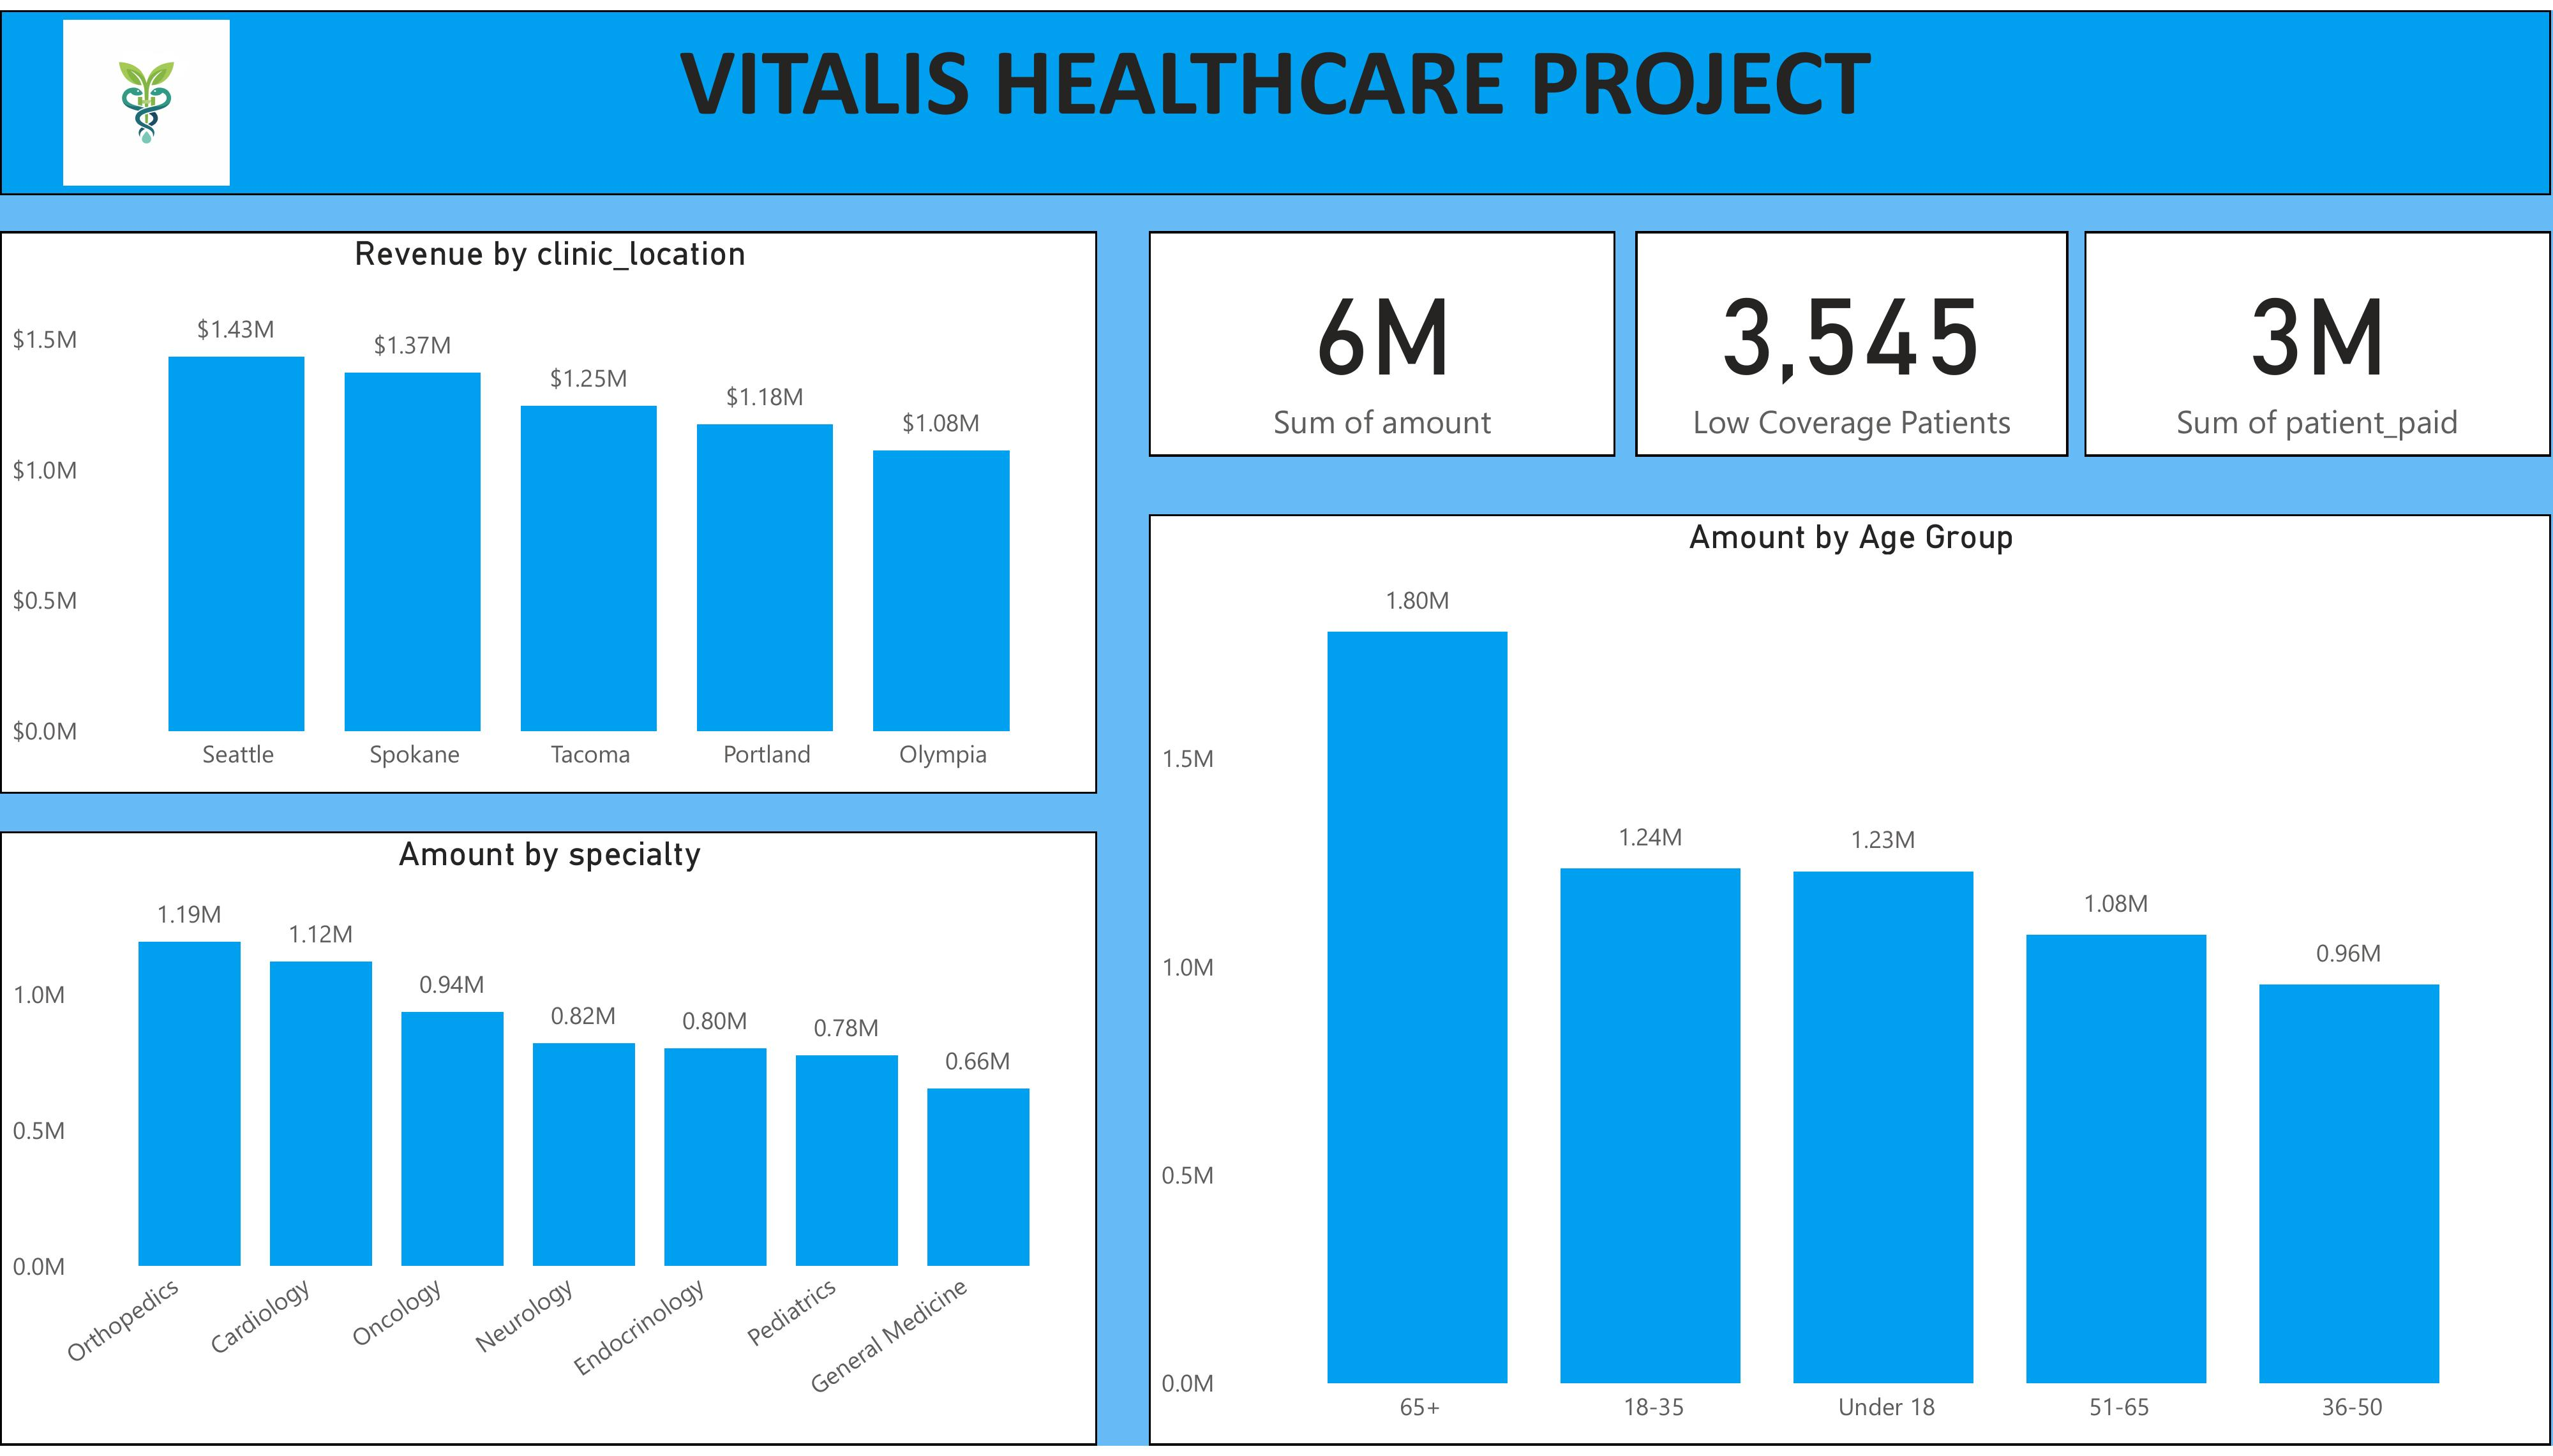

What the dashboard file says about the page in this screenshot:
{"tool":"powerbi","page":{"name":"Financial Summary","canvas":[1280,720],"ordinal":5},"visuals":[{"type":"card","fields":{"Values":["Sum(healthcare billing.patient_paid)"]},"box":[1045,111.5,234.3,113.4],"z":0},{"type":"card","fields":{"Values":["Sum(healthcare billing.amount)"]},"box":[576.4,111.5,234.3,113.4],"z":1000},{"type":"card","fields":{"Values":["healthcare billing.Low Coverage Patients"]},"box":[820.2,111.5,217.3,113.4],"z":2000},{"type":"clusteredColumnChart","title":"Amount by specialty","fields":{"Y":["Sum(healthcare billing.amount)"],"Category":["healthcare doctors.specialty"]},"box":[0,412,549.9,308],"z":3000},{"type":"clusteredColumnChart","title":"Revenue by clinic_location","fields":{"Y":["healthcare billing.Total Revenue"],"Category":["healthcare doctors.clinic_location"]},"box":[0,111.5,549.9,281.6],"z":4000},{"type":"textbox","box":[0,0,1279.4,92.6],"z":5000},{"type":"lineStackedColumnComboChart","title":"Amount by Age Group","fields":{"Category":["healthcare patients.Age Group"],"Y":["Sum(healthcare billing.amount)"]},"box":[576.4,253.2,703,466.8],"z":6000},{"type":"image","box":[73.7,0,300.5,92.6],"z":7000},{"type":"image","box":[0,0,147.4,92.6],"z":8000}]}

Visuals, with their boxes in screenshot pixels (x1, y1, x2, y2), scaled from the page's 1280x720 canvas onto the 2553x1456 screenshot:
card - Sum(healthcare billing.patient_paid): bbox=(2085, 225, 2552, 455)
card - Sum(healthcare billing.amount): bbox=(1149, 225, 1617, 455)
card - healthcare billing.Low Coverage Patients: bbox=(1636, 225, 2069, 455)
"Amount by specialty" clusteredColumnChart: bbox=(0, 833, 1097, 1455)
"Revenue by clinic_location" clusteredColumnChart: bbox=(0, 225, 1097, 795)
textbox: bbox=(0, 0, 2552, 187)
"Amount by Age Group" lineStackedColumnComboChart: bbox=(1149, 512, 2552, 1455)
image: bbox=(147, 0, 746, 187)
image: bbox=(0, 0, 294, 187)
